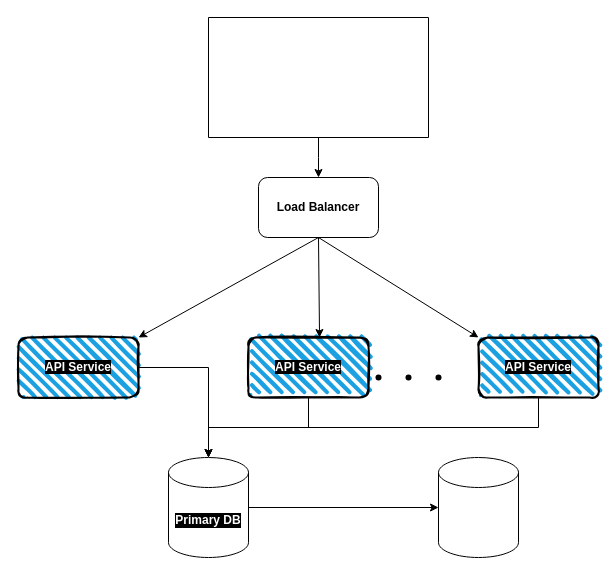
Some shapes in this 616 by 575 pixel diagram are drawn without their labels. Each missing label, with the box of its shape:
Frontend Static Page - JavaScripts: (208, 16, 428, 138)
Standby DB: (438, 456, 518, 558)
